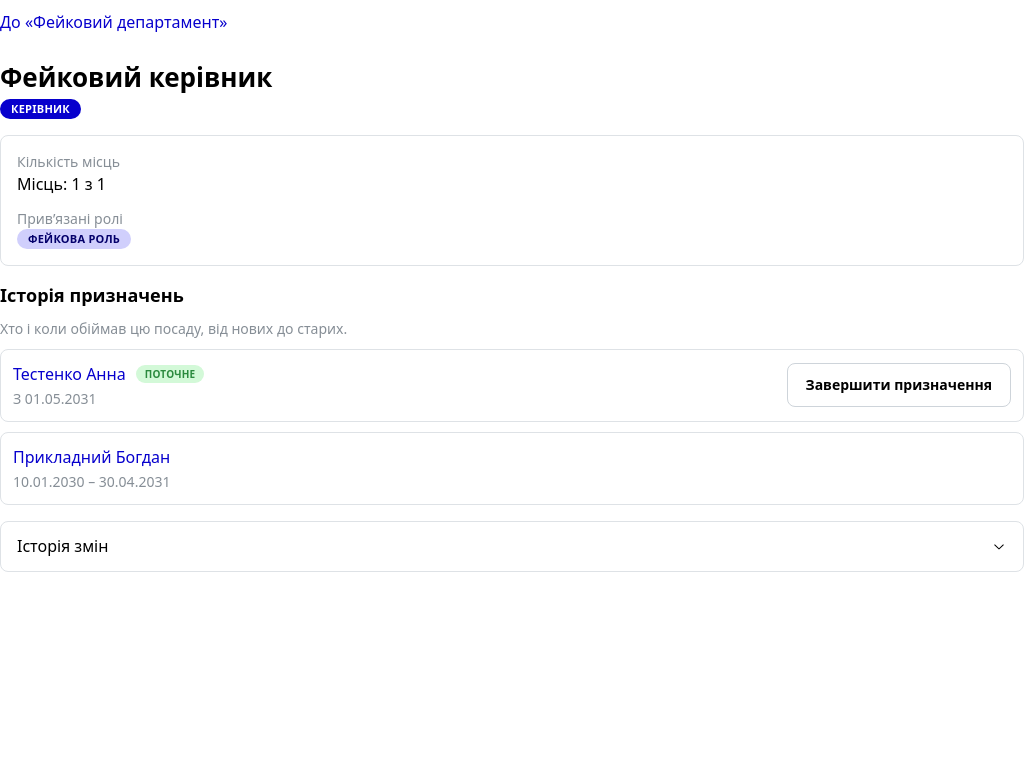
Test: PositionPage › lets an appointer end an appointment, with a date that is not in the future
Click the button "Завершити призначення" at (899, 385), box [787,363,1011,407]
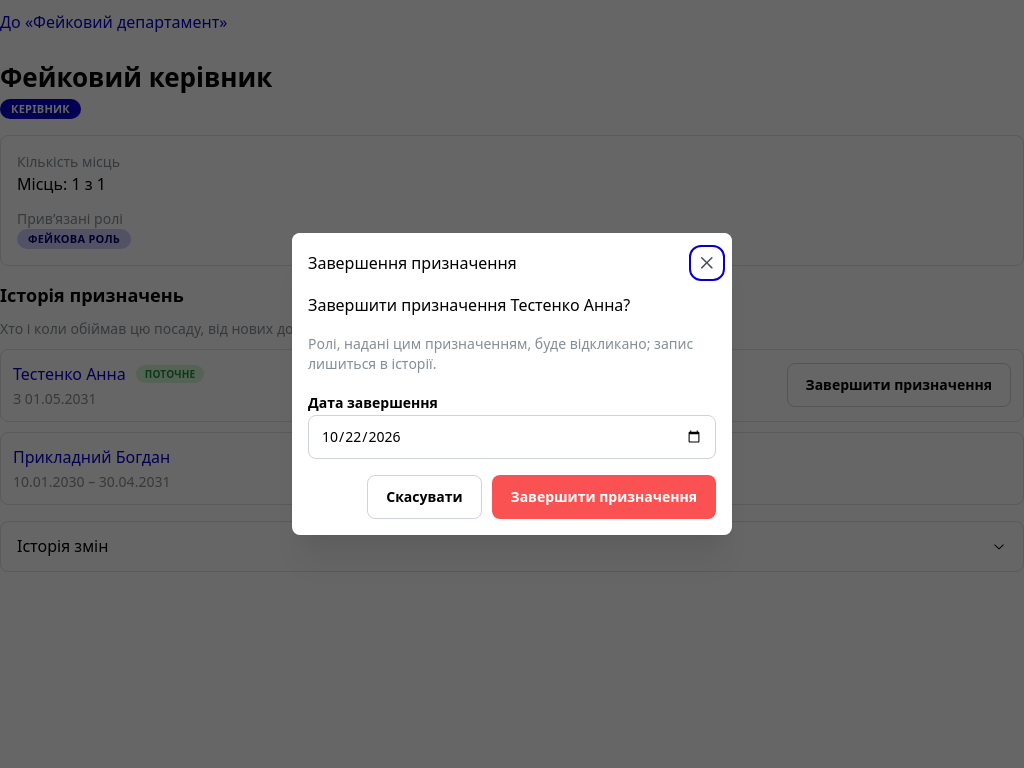
Type "2999-01-01" into the date field labelled "Дата завершення" at (512, 437), box [308,415,716,459]
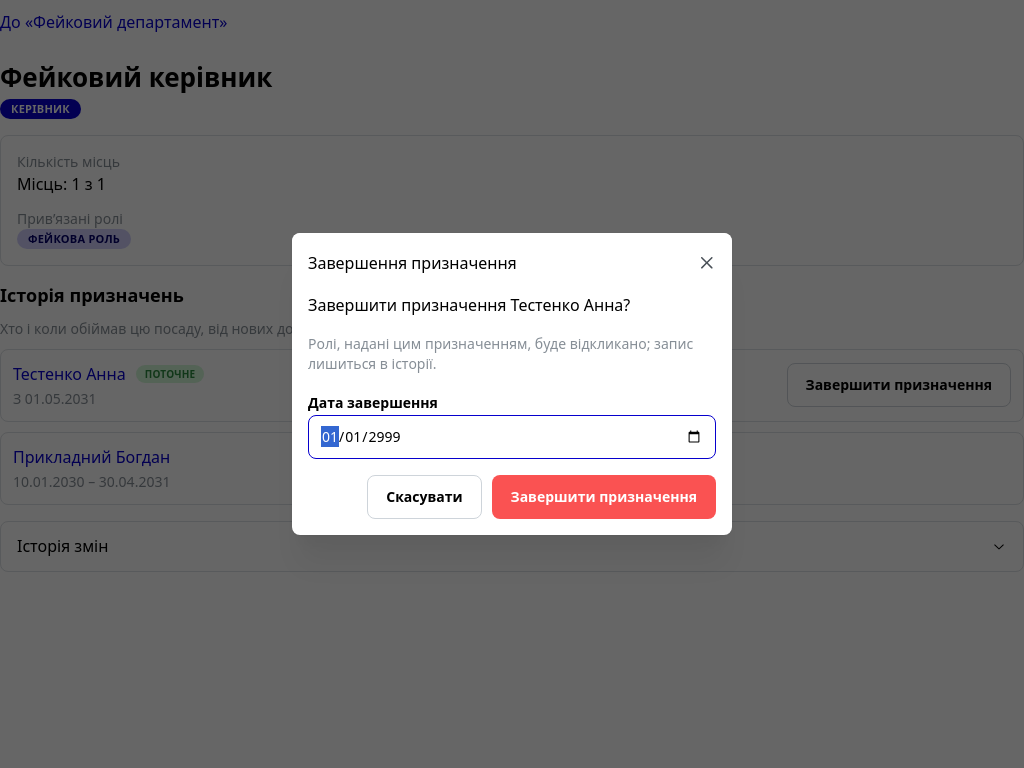
Click the button "Завершити призначення" at (604, 497), box [492,475,716,519]
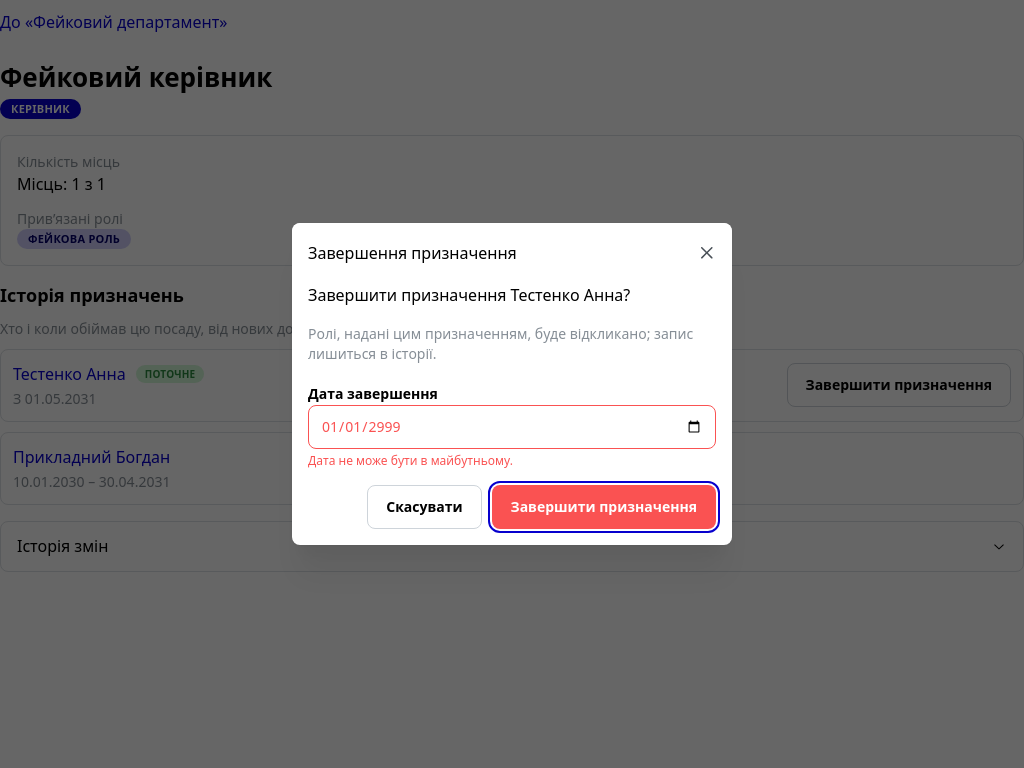
Check: the text "Дата не може бути в майбутньому." is shown, box [308,452,513,469]
